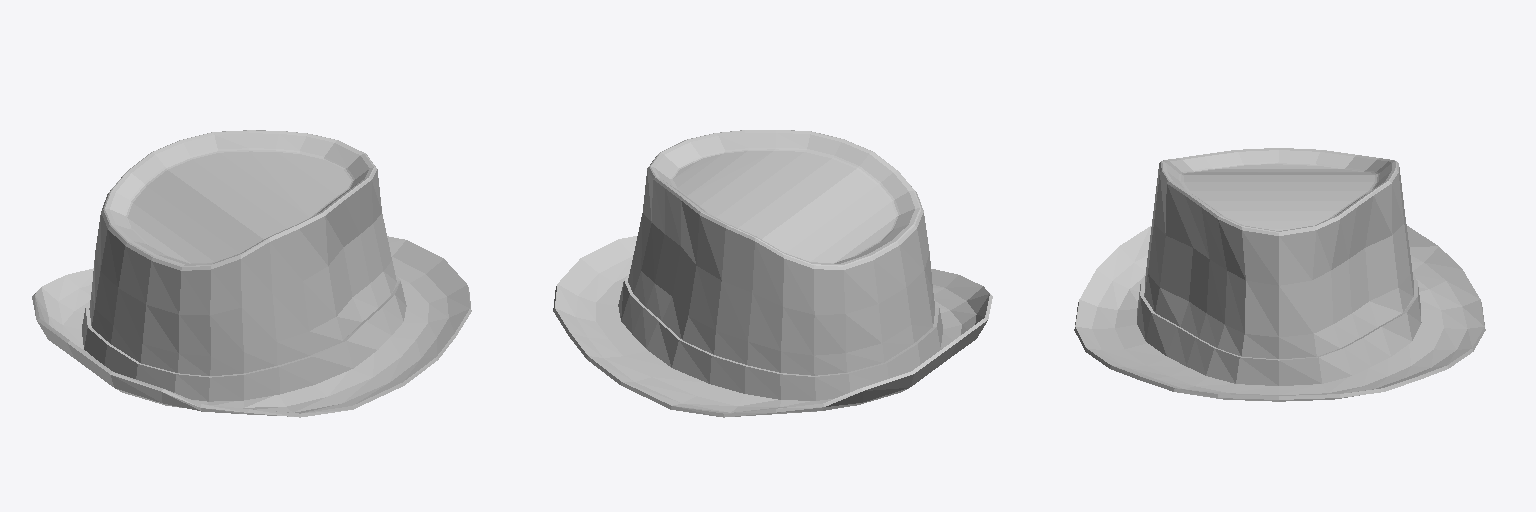
File: hat.obj
3 renders of one model, left to right at view 1: azimuth 30°, elevation 25°; view 2: azimuth 150°, elevation 25°; view 3: azimuth 270°, elevation 25°, orthographic.
Visible parts, largest first — view 1: Cylinder.001; view 2: Cylinder.001; view 3: Cylinder.001.
Part boxes in pixels (bbox=[...]): Cylinder.001: bbox=[32, 130, 471, 417]; Cylinder.001: bbox=[553, 130, 992, 417]; Cylinder.001: bbox=[1074, 148, 1485, 401].
Size of the model in its own units: 2.31 by 0.966 by 2.18.